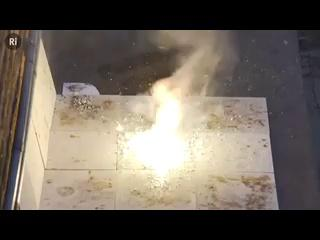Fire: (128, 76, 180, 171)
